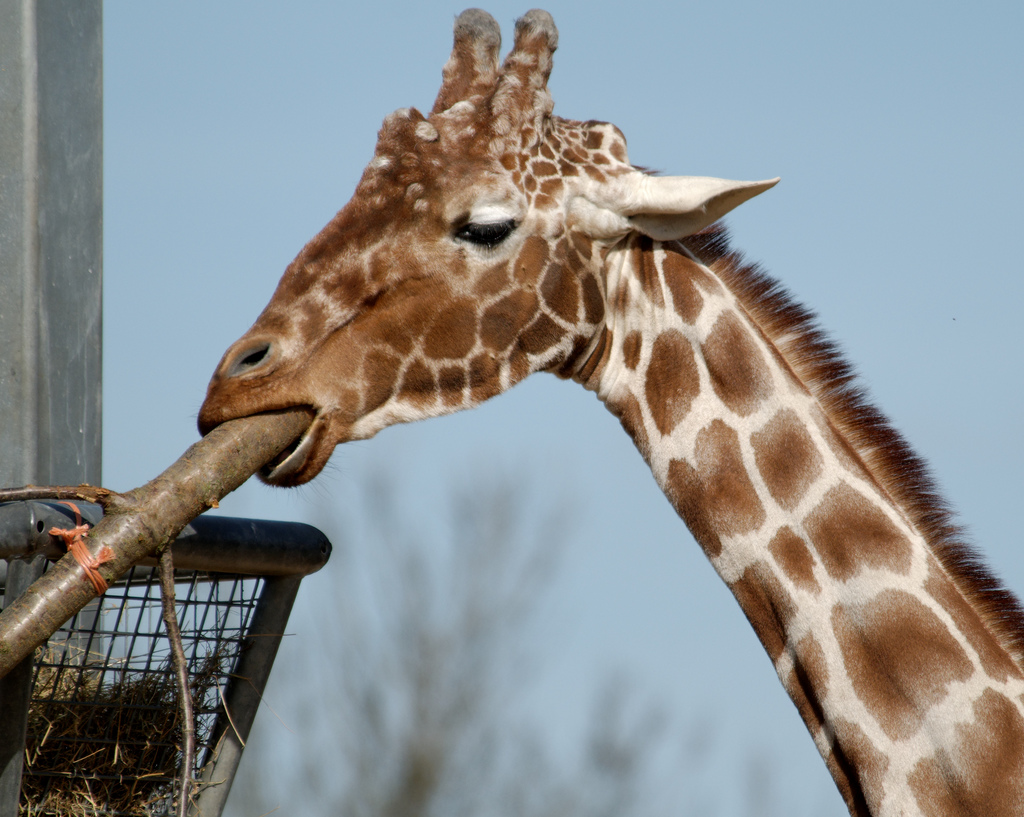giraffe: (248, 7, 993, 800)
